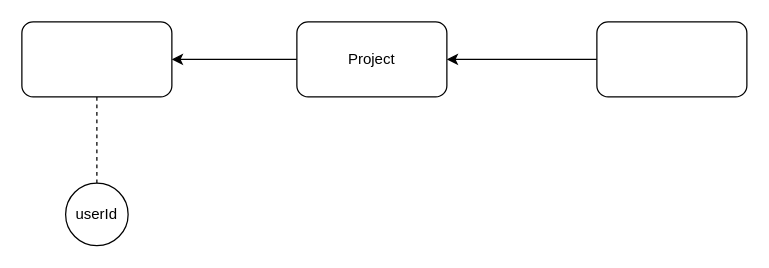
Some shapes in this 769 by 268 pixel diagram are drawn without their labels. Each missing label, with the box of its shape:
Identity: (596, 21, 747, 97)
ProjectMember: (21, 21, 172, 97)
